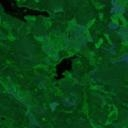alloviz: (1, 1, 50, 23), (52, 54, 78, 81)
